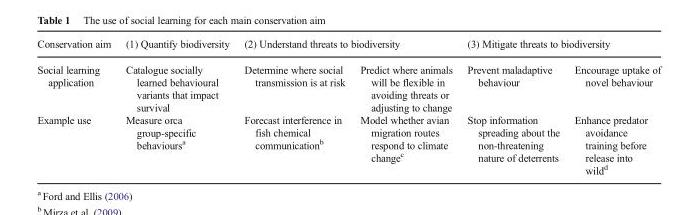table: (36, 37, 660, 175)
table column: (117, 37, 236, 175), (236, 37, 352, 175), (352, 37, 459, 175), (459, 37, 566, 175), (566, 37, 660, 175), (36, 37, 117, 175)
table column header: (36, 37, 660, 113)
table row: (36, 113, 660, 175), (36, 56, 660, 113), (36, 37, 660, 56)
table spanning cell: (117, 37, 236, 113), (36, 37, 117, 113), (236, 37, 459, 56), (459, 37, 660, 56)
